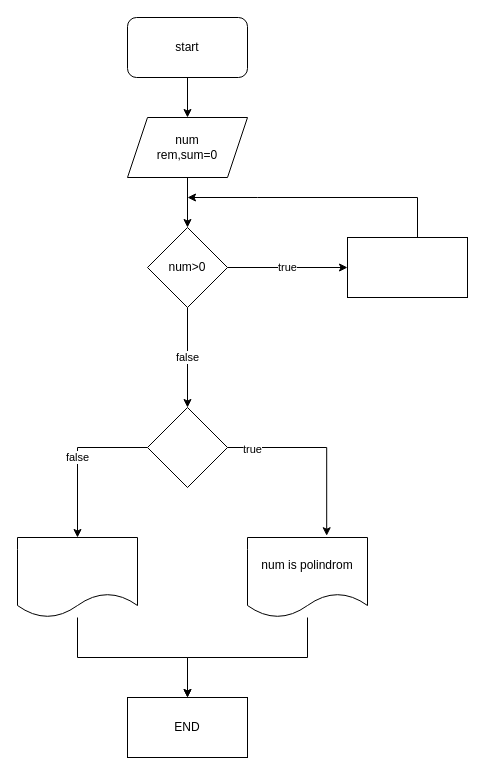
The diagram is 485 pixels wide and 775 high, and some of its shapes have lost their labels. Each missing label, with the centre of its shape:
"num is not polindrom" belongs at point 77,577.
"num==sum" belongs at point 187,447.
"rem=num%10 sum=sum*10+rem num/=10" belongs at point 407,267.
